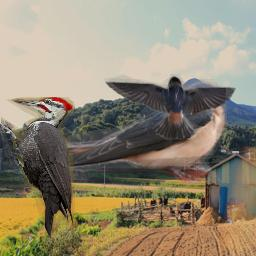Swallow: (32, 78, 227, 184), (101, 74, 237, 140)
Woodpecker: (1, 97, 75, 242)
